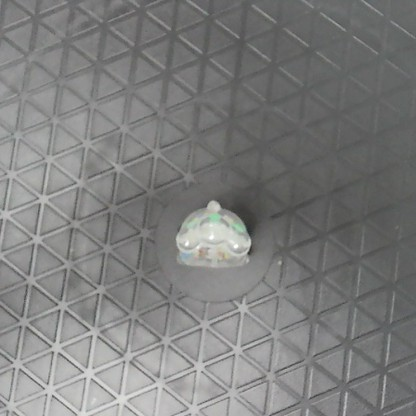whitefish: (174, 198, 254, 271)
